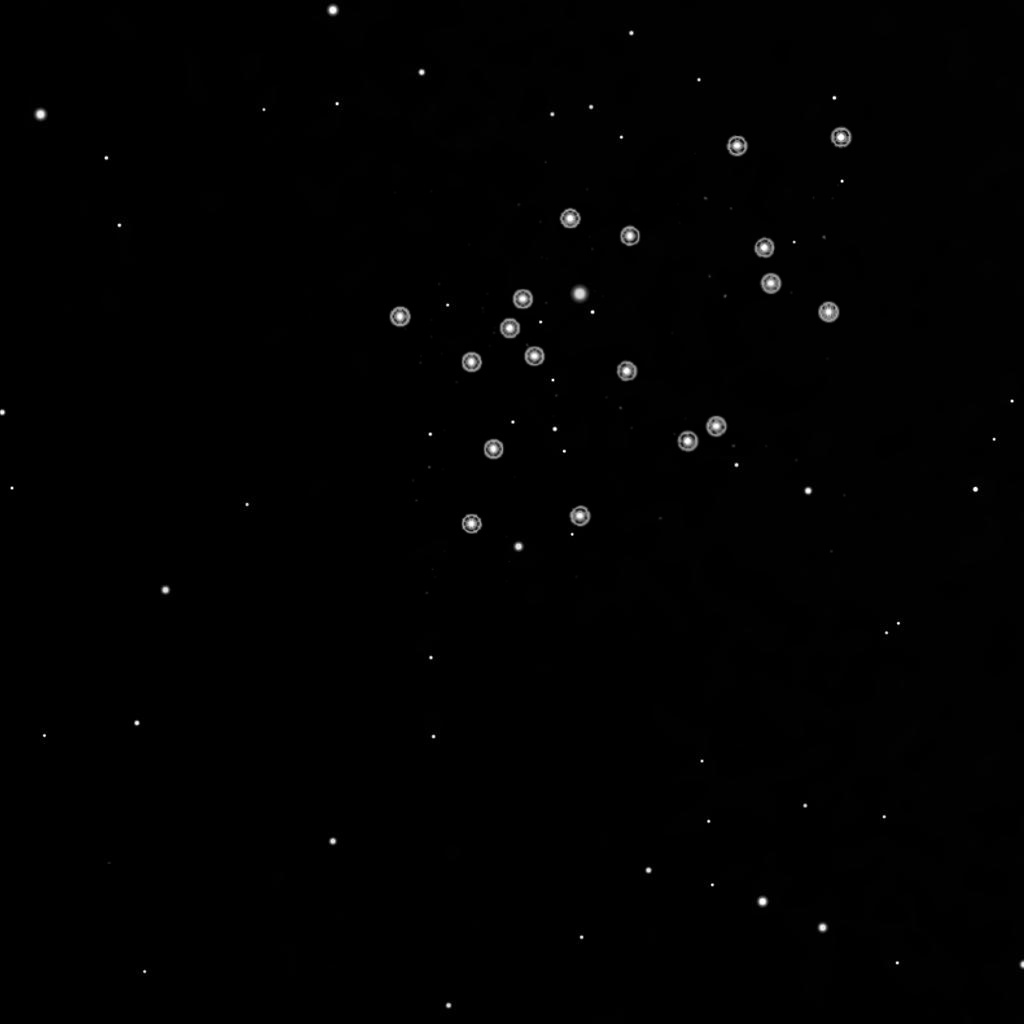canis_major: (456, 204, 641, 376)
